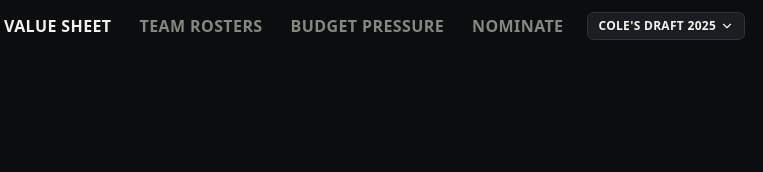
Scenario: NavLinks — with draftId › opens dropdown and shows other drafts + All Drafts link
The width and height of the screenshot is (763, 172).
Click the button at [666, 26], box [588,12,745,40]
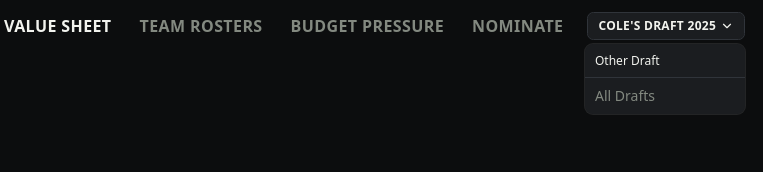
expect the number of buttons "Cole's Draft 2025" is 1: met, box [588,12,745,40]
expect the menu item "Other Draft" is shown: met, box [595,52,660,69]
expect the menu item "All Drafts" is shown: met, box [595,86,655,105]
